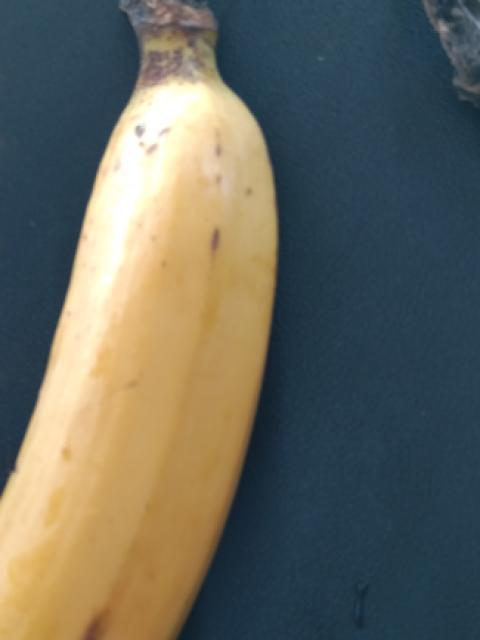freshripe: (0, 77, 329, 639)
